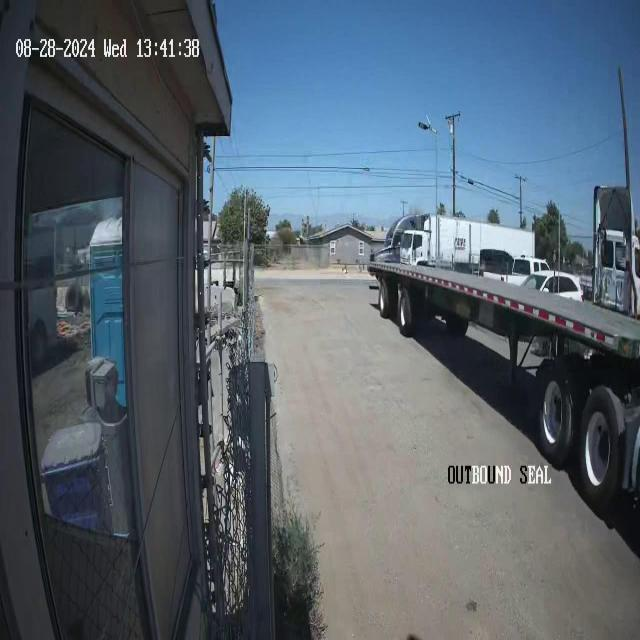TRUCK_IN: (367, 66, 639, 520)
